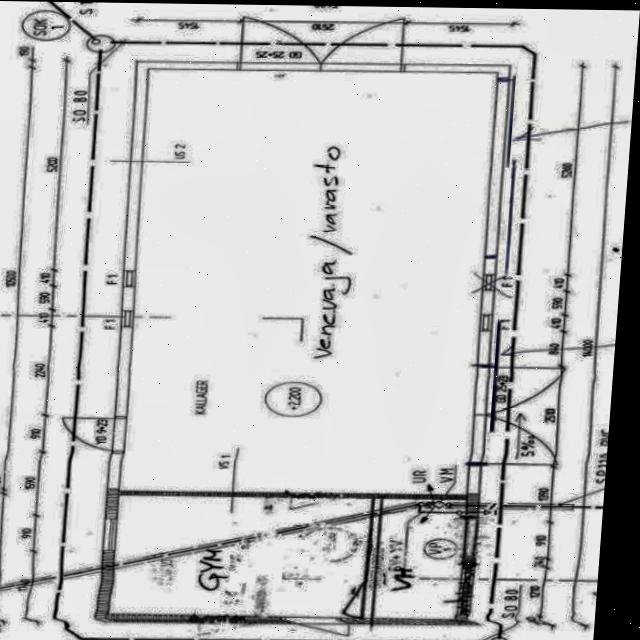room: (119, 48, 496, 514), (108, 494, 372, 617), (373, 492, 466, 624)
